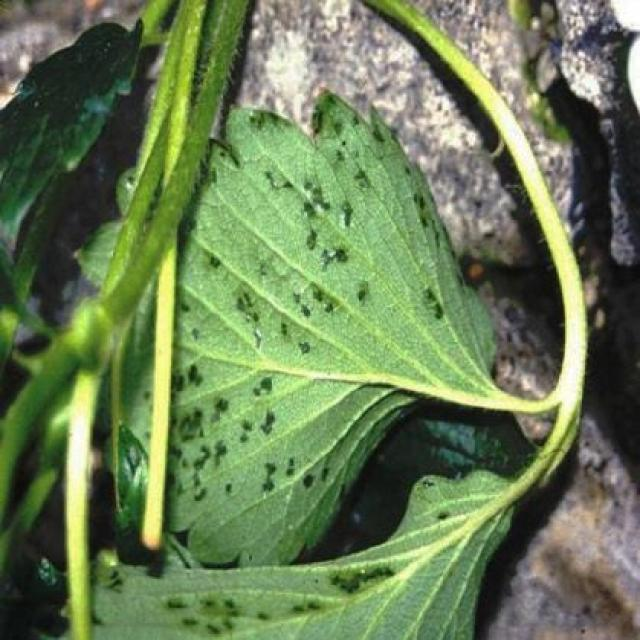Angular Leafspot: (68, 85, 522, 568), (57, 469, 526, 638)
